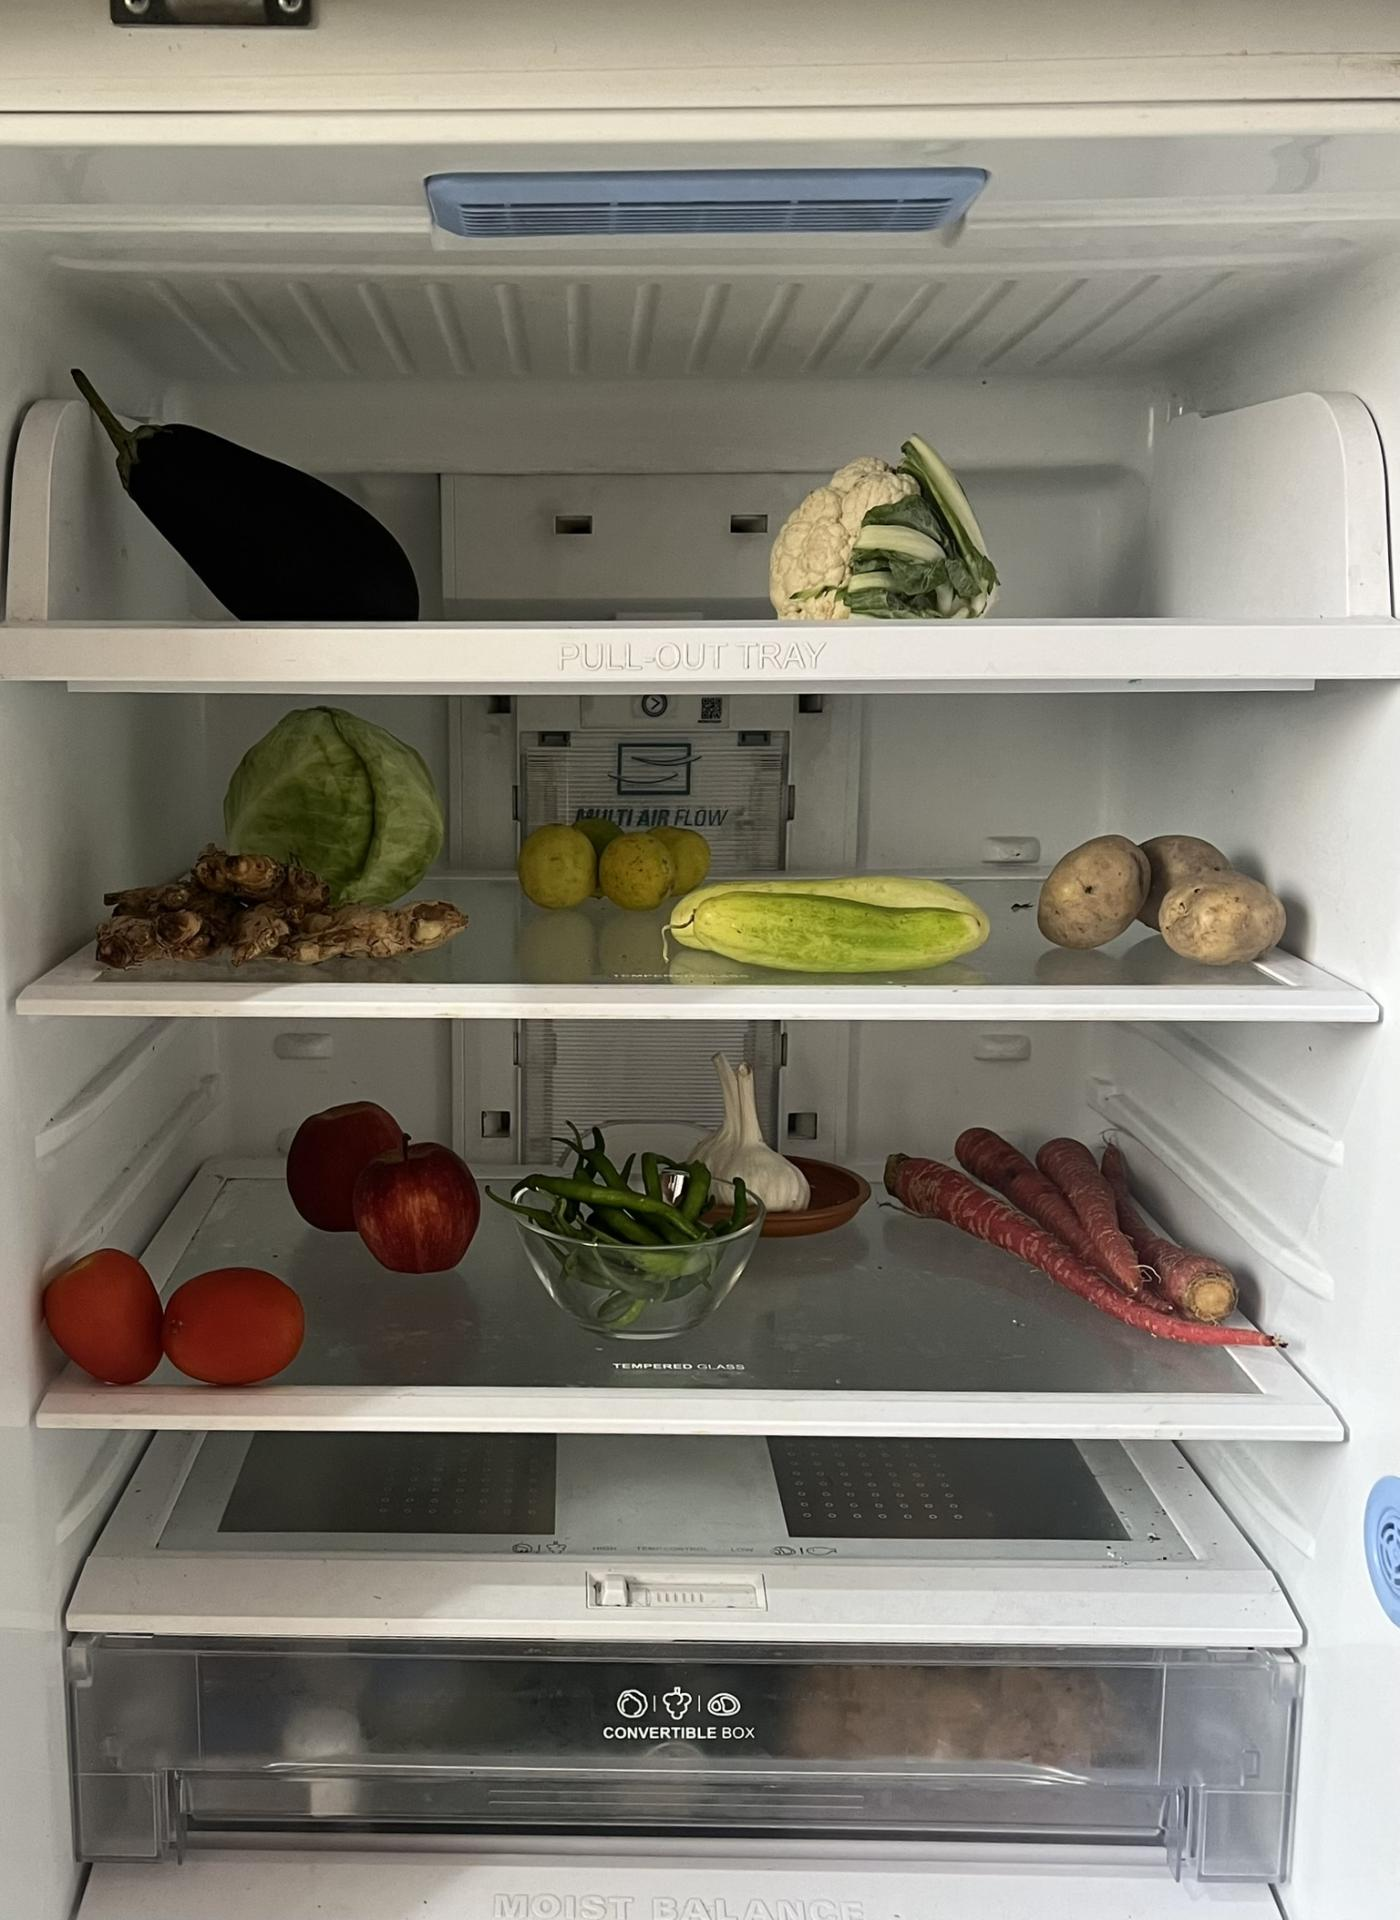apple: (288, 1096, 477, 1267)
brinjal: (69, 367, 417, 629)
cabbage: (219, 707, 444, 900)
carrots: (886, 1121, 1275, 1343)
cauliflower: (777, 441, 1008, 620)
chillies: (504, 1121, 735, 1316)
cucumber: (666, 872, 983, 972)
garlic: (686, 1054, 805, 1216)
ginger: (110, 841, 462, 967)
lemon: (511, 821, 708, 912)
potato: (1030, 830, 1285, 959)
tomato: (37, 1248, 309, 1395)
